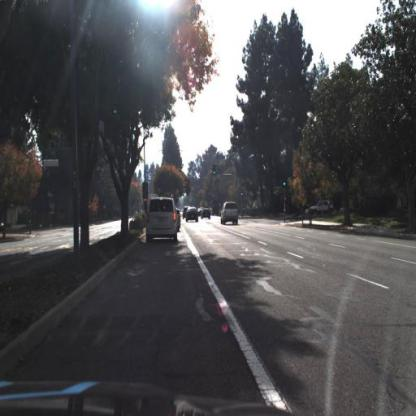car: (144, 194, 180, 247), (308, 195, 337, 222), (219, 199, 242, 230), (306, 200, 335, 217), (184, 204, 202, 225), (179, 203, 188, 235), (199, 207, 214, 223), (201, 207, 211, 222)
trafficLight-Green: (212, 161, 217, 179), (212, 165, 217, 179), (283, 181, 288, 195), (283, 175, 288, 188)
trafficLight-Red: (143, 198, 148, 213)
